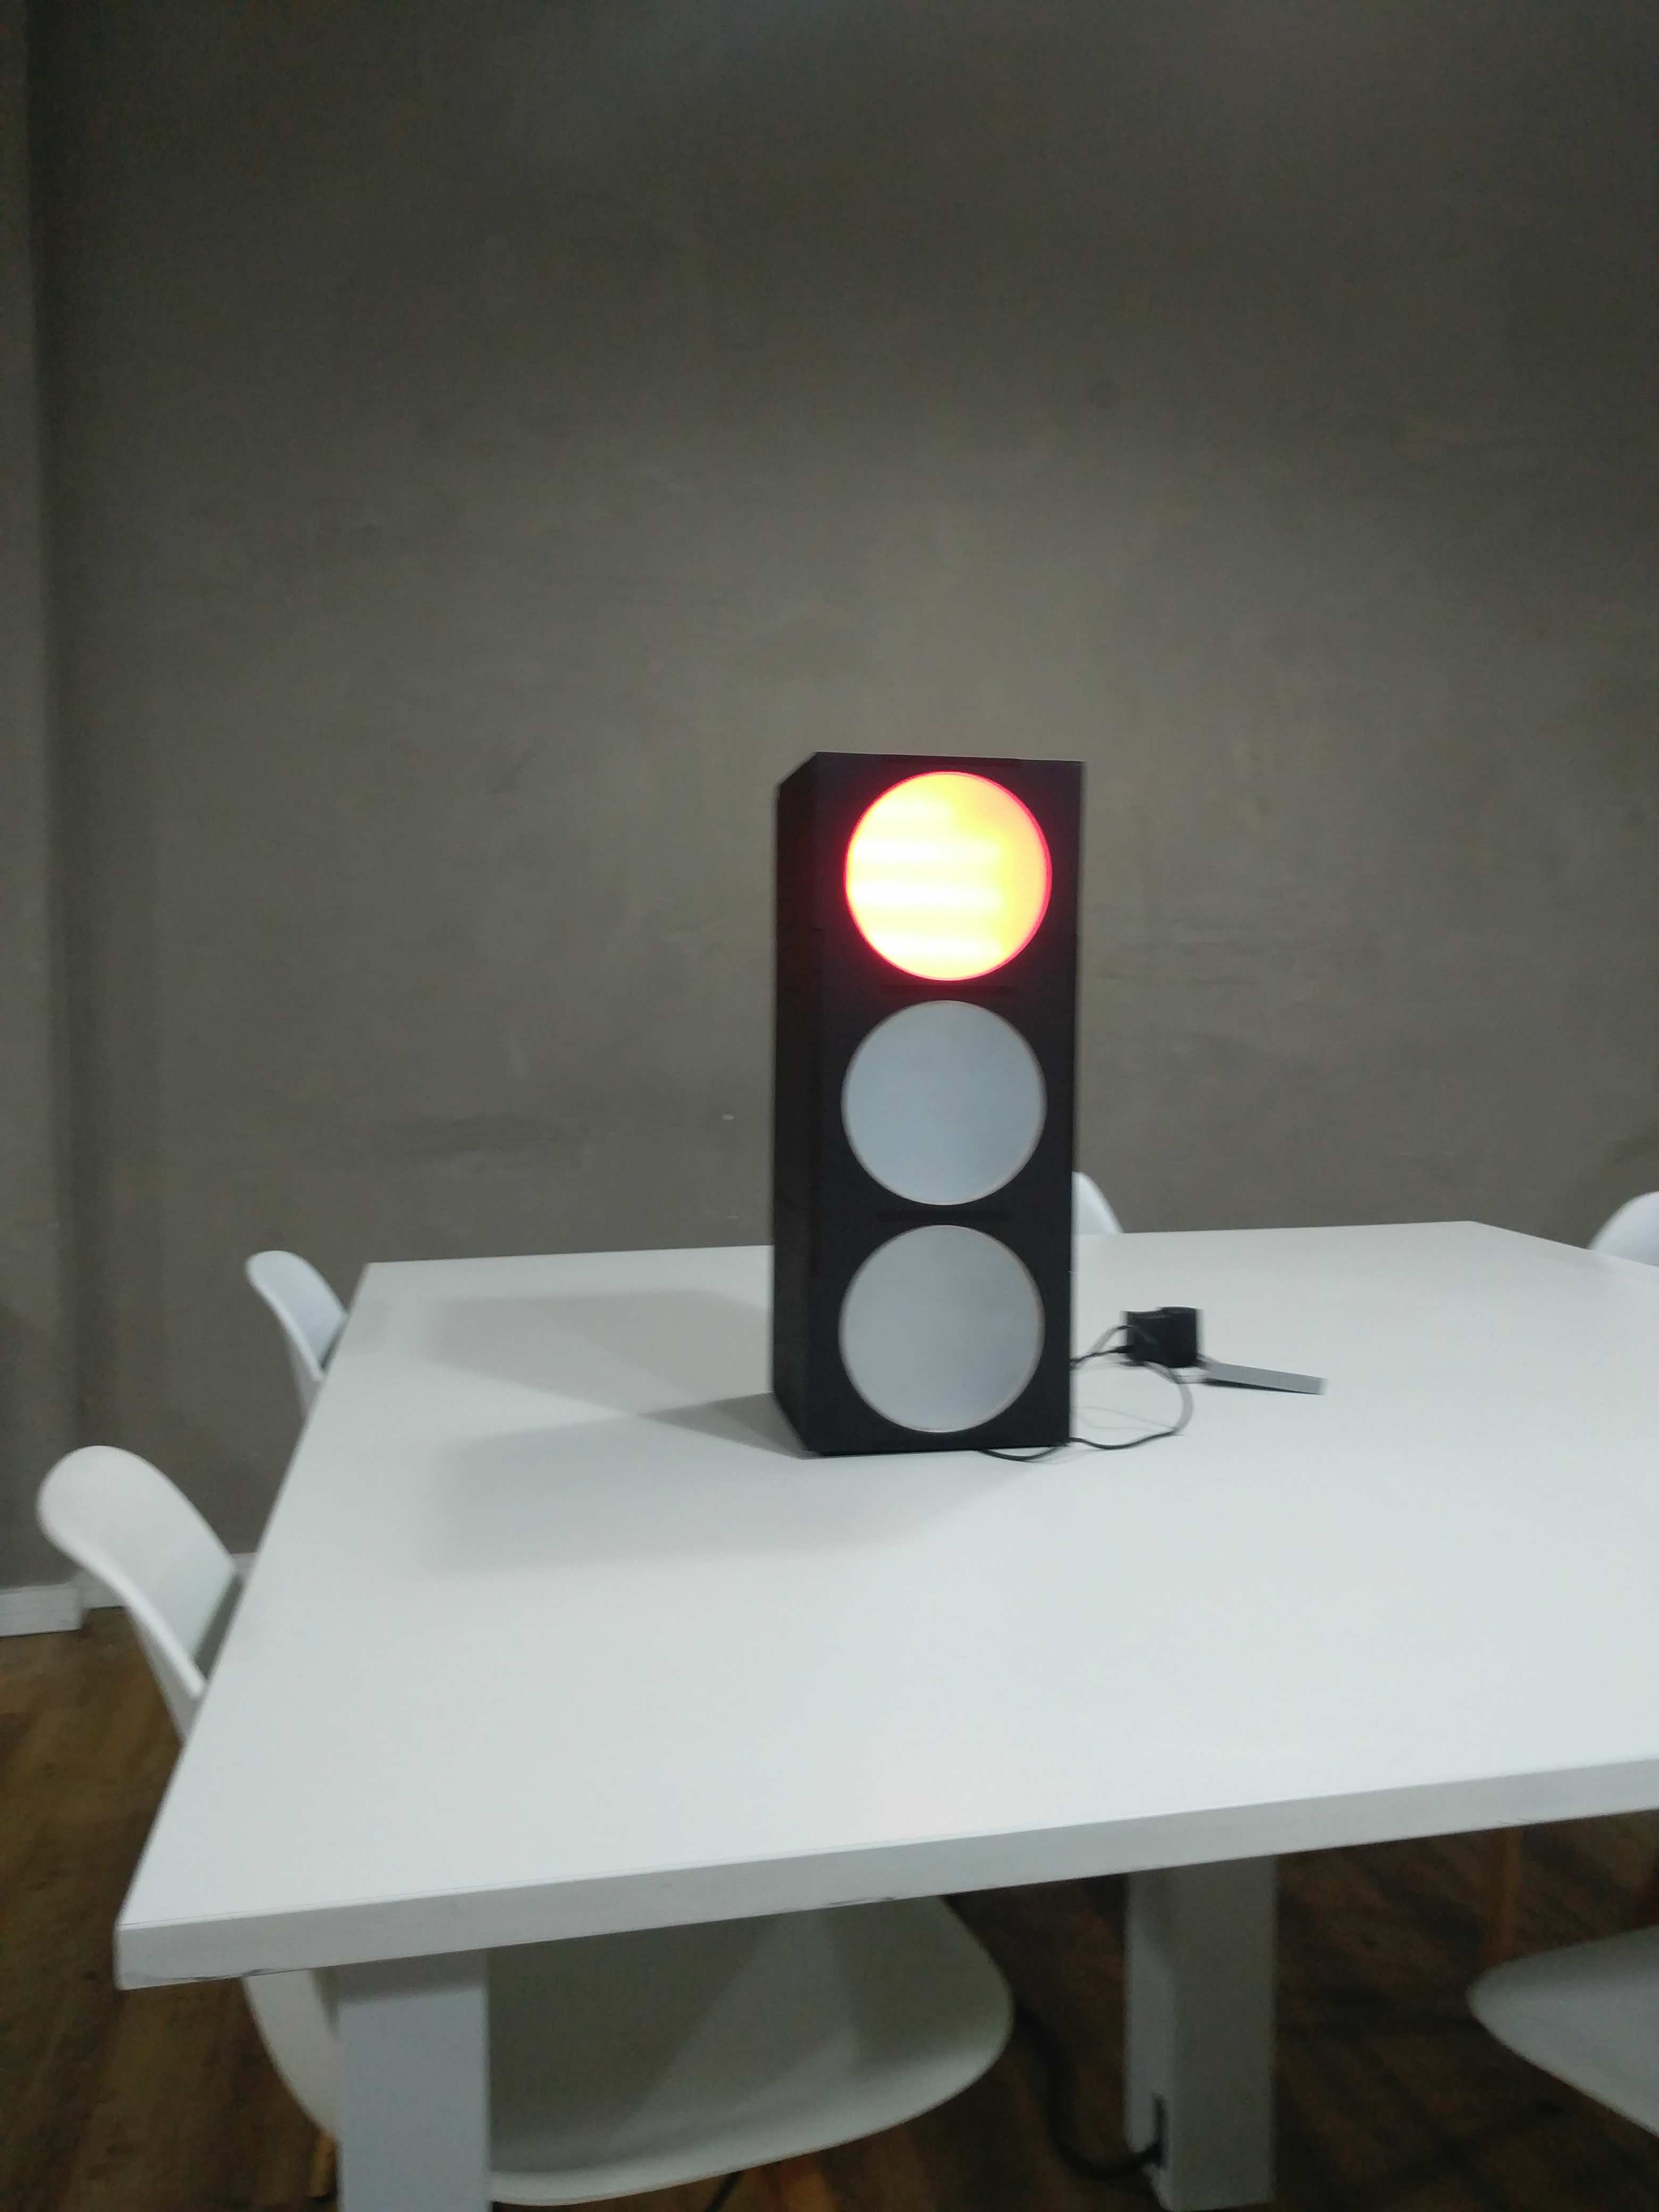stop: (769, 742, 1079, 1444)
